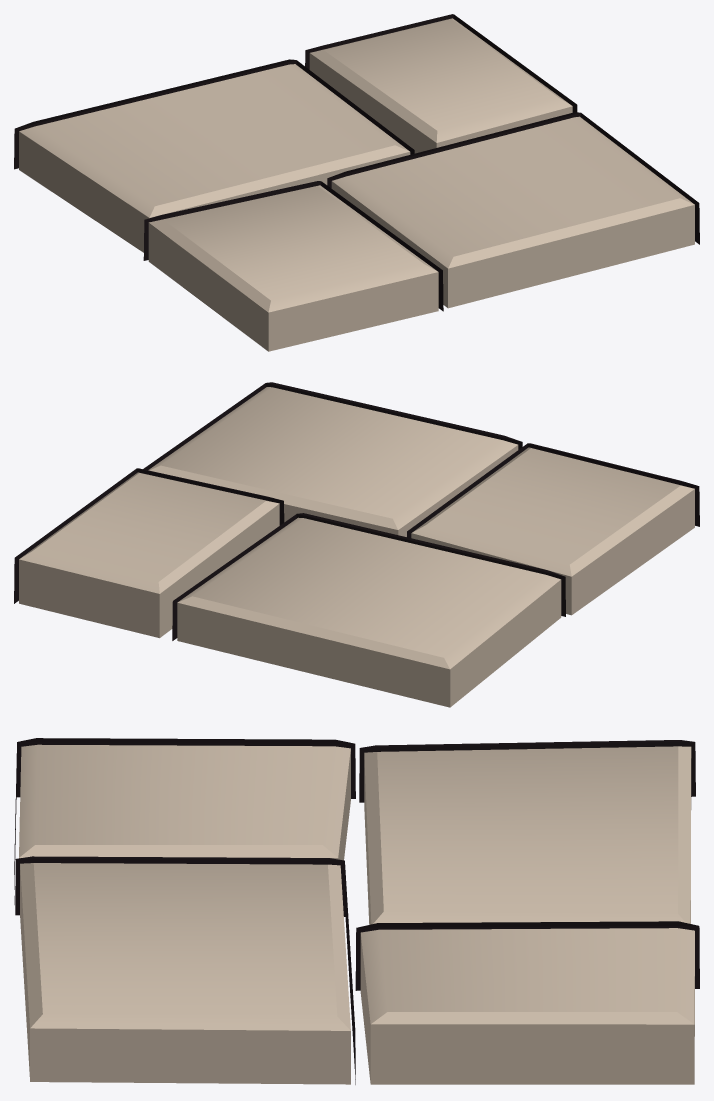
The model's file is SM_RoadTile_03.fbx.
3 renders of one model, top to bottom at view 1: azimuth 30°, elevation 25°; view 2: azimuth 150°, elevation 25°; view 3: azimuth 270°, elevation 25°, orthographic. The views are drawn at different scales.
Visible parts, largest first — view 1: SM_RoadTile_03; view 2: SM_RoadTile_03; view 3: SM_RoadTile_03.
Part boxes in pixels (x1=…): SM_RoadTile_03: x1=14, y1=14, x2=699, y2=351; SM_RoadTile_03: x1=14, y1=382, x2=699, y2=707; SM_RoadTile_03: x1=14, y1=738, x2=699, y2=1084.
Size of the model in its own units: 0.9908 by 0.1176 by 0.9902.
